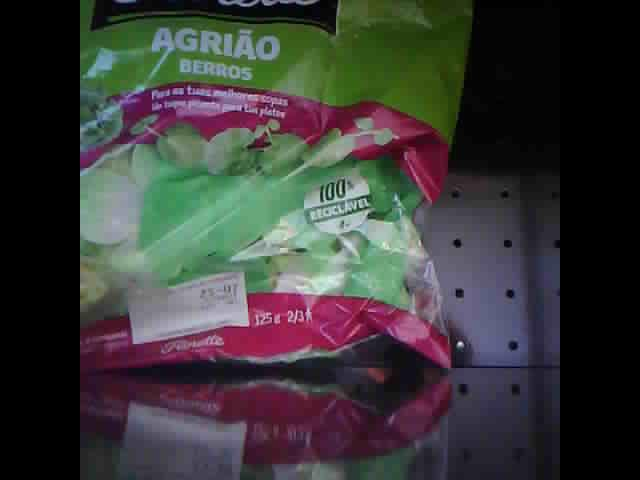florette: (82, 2, 474, 379)
